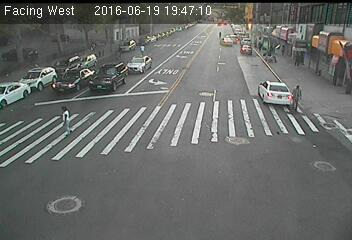neg: (255, 161, 275, 188), (217, 173, 237, 199), (162, 142, 179, 165), (202, 67, 218, 88), (149, 103, 165, 124), (131, 187, 146, 208), (273, 124, 288, 144), (103, 179, 116, 197), (296, 161, 309, 179), (32, 149, 45, 166), (105, 151, 118, 168), (131, 134, 143, 151), (177, 191, 189, 208), (13, 128, 25, 144), (195, 129, 207, 145), (66, 174, 78, 190), (316, 135, 328, 151), (70, 156, 81, 172), (231, 105, 242, 120), (319, 55, 330, 69), (99, 18, 110, 32), (101, 76, 111, 90), (73, 59, 83, 73), (55, 14, 65, 28), (321, 86, 331, 100), (7, 95, 17, 107), (173, 36, 182, 49), (139, 15, 148, 27), (37, 38, 46, 50), (189, 46, 198, 57), (176, 13, 185, 24), (167, 65, 175, 76), (137, 79, 145, 90), (298, 5, 306, 16), (247, 12, 255, 23), (327, 116, 335, 127), (266, 72, 274, 82), (322, 17, 330, 27), (192, 105, 199, 115), (24, 71, 31, 80), (217, 29, 223, 38), (208, 12, 214, 19), (112, 119, 117, 127), (238, 76, 243, 82)
pos: (52, 102, 78, 137), (285, 81, 306, 110), (138, 44, 148, 56), (280, 44, 289, 56), (256, 41, 263, 51)
